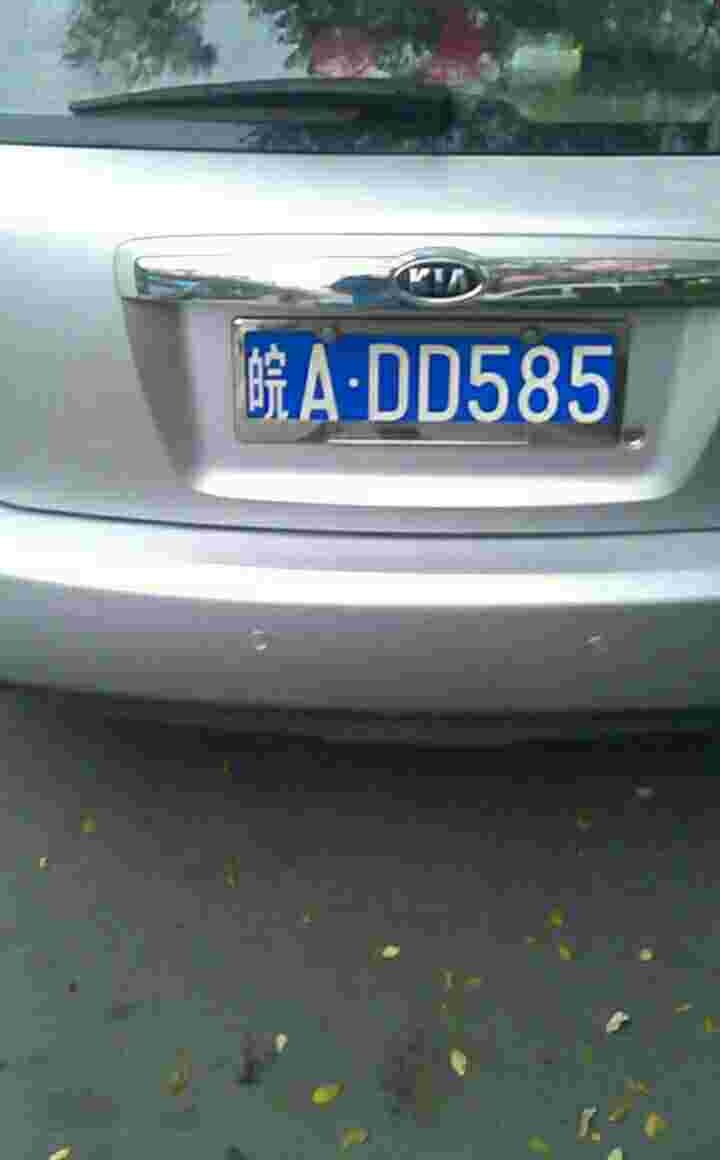car: (241, 320, 614, 426)
